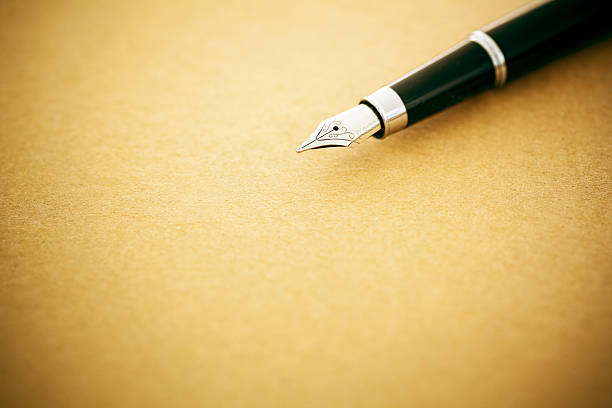pen: (282, 1, 611, 189)
